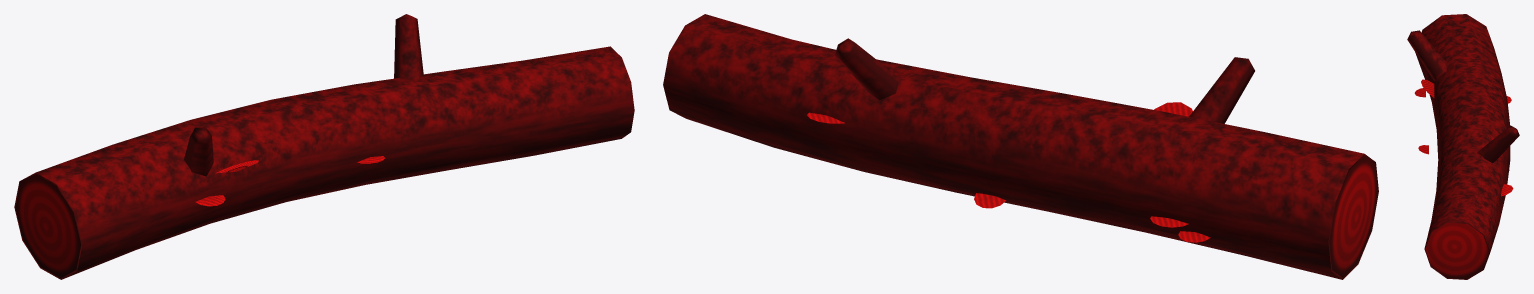
Rendered from tronco_caido.glb.
The picture shows the model from 3 angles, left to right: view 1: azimuth 30°, elevation 25°; view 2: azimuth 150°, elevation 25°; view 3: azimuth 270°, elevation 25°; orthographic projection. The views are drawn at different scales.
Parts seen in each view (by area): view 1: tronco_caido; view 2: tronco_caido; view 3: tronco_caido.
Boxes of the visible parts, x1,y1,x2,y2 form: tronco_caido: (14, 14, 634, 279); tronco_caido: (663, 14, 1378, 279); tronco_caido: (1407, 14, 1519, 279).
Size of the model in its own units: 4.28 by 0.9547 by 1.02.
1 material, 1 textured.
